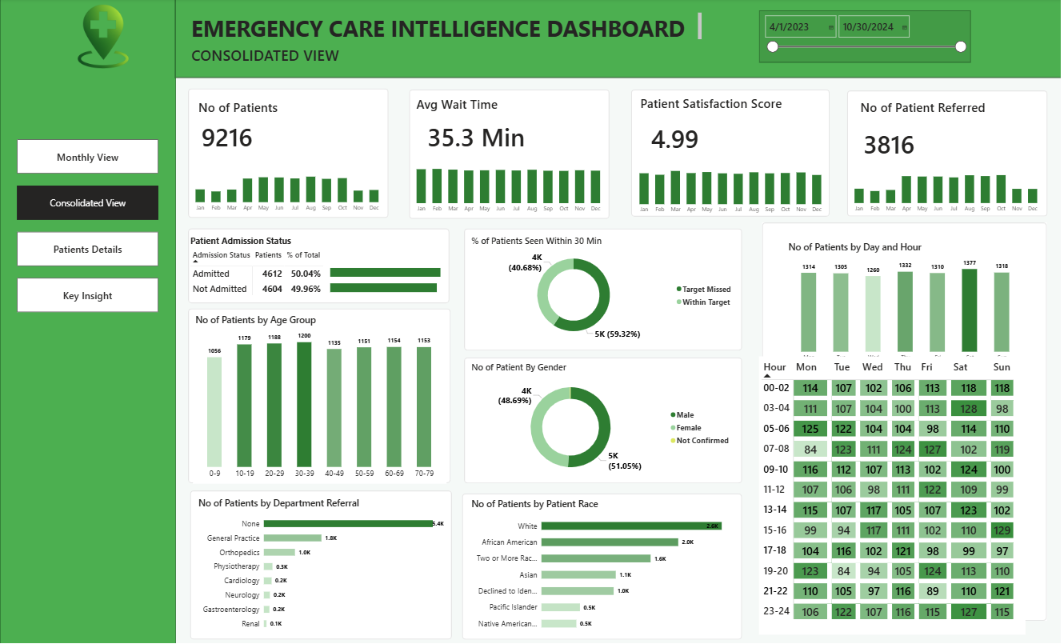

Layout of this report page (visuals, bound fields, positions):
{"tool":"powerbi","page":{"name":"Consolidated View","canvas":[2300,1400],"ordinal":1},"visuals":[{"type":"shape","box":[407.4,195.1,434.1,280.5],"z":0,"group":"g3"},{"type":"shape","box":[1650,485.4,616.7,862.5],"z":0,"group":"g10"},{"type":"shape","box":[1004.2,497.9,602.1,264.6],"z":0,"group":"g7"},{"type":"shape","box":[407.5,498.1,566,162.3],"z":0,"group":"g2"},{"type":"shape","box":[407.1,671.4,568.6,378.6],"z":0,"group":"g6"},{"type":"shape","box":[1004.2,777.1,602.1,272.9],"z":0,"group":"g8"},{"type":"group","id":"g1","title":"Group 1","box":[411.4,1065.7,567.1,322.9],"z":0},{"type":"shape","box":[411.4,1065.7,567.1,322.9],"z":0,"group":"g1"},{"type":"shape","box":[1000,1070.8,606.2,316.7],"z":0,"group":"g9"},{"type":"group","id":"g2","title":"Group 1","box":[407.5,498.1,566,162.3],"z":1000},{"type":"columnChart","title":"No of Patients by Day and Hour","fields":{"Category":["Date Table.Day Name"],"Y":["Hospital ER_Data.No of Patients"]},"box":[1701.2,524.2,518.5,271.1],"z":1500,"group":"g10"},{"type":"shape","box":[1834.1,200,434.1,273.2],"z":2000},{"type":"shape","box":[885.4,197.6,434.1,280.5],"z":3000},{"type":"shape","box":[0,0,380.5,1400],"z":4000},{"type":"shape","box":[379.3,0,1920.6,171.8],"z":5000},{"type":"textbox","box":[408.3,25,1114.6,70.8],"z":6000},{"type":"card","fields":{"Values":["Hospital ER_Data.No of Patients"]},"box":[424.4,268.3,134.1,58.5],"z":6000,"group":"g3"},{"type":"textbox","box":[408.3,95.8,335.4,66.7],"z":7000},{"type":"slicer","fields":{"Values":["Date Table.Date"]},"box":[1643.8,25,458.3,112.5],"z":8000},{"type":"textbox","box":[424.4,212.2,200,61],"z":8000,"group":"g3"},{"type":"shape","box":[1366.7,197.9,430.3,275.7],"z":9000,"group":"g4"},{"type":"card","fields":{"Values":["Hospital ER_Data.Avg Wait Time"]},"box":[902.4,268.3,256.1,58.5],"z":9000},{"type":"columnChart","fields":{"Y":["Hospital ER_Data.No of Patients"],"Category":["Date Table.Month Name"]},"box":[405.7,347.1,434.1,125],"z":9000,"group":"g3"},{"type":"group","id":"g3","title":"Group 1","box":[405.7,195.1,435.8,280.5],"z":10000},{"type":"card","fields":{"Values":["Hospital ER_Data.Satisfaction Score"]},"box":[1382.9,274.6,159.6,57.5],"z":10000,"group":"g4"},{"type":"textbox","box":[1382.9,205.1,449.7,59.9],"z":11000,"group":"g4"},{"type":"card","fields":{"Values":["Hospital ER_Data.No of Patient Referred"]},"box":[1856.1,282.9,134.1,58.5],"z":11000},{"type":"columnChart","fields":{"Category":["Date Table.Month Name"],"Y":["Avg(Hospital ER_Data.Patient Waittime)"]},"box":[883.3,347.9,435.4,125],"z":12000},{"type":"columnChart","fields":{"Y":["Hospital ER_Data.Satisfaction Score"],"Category":["Date Table.Month Name"]},"box":[1367.4,352.2,431.2,125],"z":12000,"group":"g4"},{"type":"group","id":"g4","title":"Group 3","box":[1366.7,197.9,465.9,279.3],"z":12001,"group":"g5"},{"type":"group","id":"g5","title":"Group 2","box":[1366.7,197.9,465.9,279.3],"z":13000},{"type":"columnChart","fields":{"Y":["Hospital ER_Data.No of Patient Referred"],"Category":["Date Table.Month Name"]},"box":[1831.2,341.7,433.3,131.2],"z":14000},{"type":"textbox","box":[895.1,204.9,209.8,78],"z":15000},{"type":"textbox","box":[1856.1,212.2,297.6,53.7],"z":16000},{"type":"pivotTable","title":"Patient Admission Status","fields":{"Rows":["Hospital ER_Data.Admission Status"],"Values":["Hospital ER_Data.No of Patients1","Hospital ER_Data.No of Patients"]},"box":[407.5,511.3,318.9,149.1],"z":17000},{"type":"barChart","fields":{"Category":["Hospital ER_Data.Admission Status"],"Y":["Hospital ER_Data.No of Patient Referred"]},"box":[710,554,256,106],"z":18000},{"type":"group","id":"g6","title":"Group 1","box":[407.1,671.4,568.6,378.6],"z":19000},{"type":"clusteredColumnChart","fields":{"Category":["Hospital ER_Data.Age Group"],"Y":["Hospital ER_Data.No of Patients"]},"box":[417.1,681.4,548.6,368.6],"z":20000},{"type":"clusteredBarChart","fields":{"Category":["Hospital ER_Data.Department Referral"],"Y":["Hospital ER_Data.No of Patients"]},"box":[424.3,1077.1,541.4,301.4],"z":21000},{"type":"group","id":"g7","title":"Group 1","box":[1004.2,497.9,602.1,264.6],"z":22000},{"type":"donutChart","title":"% of Patients Seen Within 30 Min","fields":{"Category":["Hospital ER_Data.Waittime Status"],"Y":["Hospital ER_Data.No of Patients"]},"box":[1014.6,510.4,581.2,237.5],"z":23000},{"type":"group","id":"g8","title":"Group 1","box":[1004.2,777.1,602.1,272.9],"z":24000},{"type":"donutChart","title":"No of Patient By Gender","fields":{"Category":["Hospital ER_Data.Patient Gender"],"Y":["Hospital ER_Data.No of Patients"]},"box":[1014.6,785.4,577.1,260.4],"z":25000},{"type":"group","id":"g9","title":"Group 1","box":[1000,1070.8,606.2,316.7],"z":26000},{"type":"clusteredBarChart","fields":{"Category":["Hospital ER_Data.Patient Race"],"Y":["Hospital ER_Data.No of Patients"]},"box":[1014.6,1079.2,577.1,302.1],"z":27000},{"type":"group","id":"g10","title":"Group 1","box":[1650,485.4,616.7,862.5],"z":28000},{"type":"pivotTable","fields":{"Rows":["Hospital ER_Data.Waittime Interval"],"Columns":["Date Table.Day Name"],"Values":["Hospital ER_Data.No of Patients"]},"box":[1643.8,775,577.1,602.1],"z":29000},{"type":"image","box":[66.7,0,312.5,170.8],"z":30000},{"type":"pageNavigator","box":[37.5,304.2,306.2,377.1],"z":31000}]}

Visuals, with their boxes in screenshot pixels (x1, y1, x2, y2), scaled from the page's 2300x1400 canvas onto the 1061x644 screenshot:
shape: x1=188, y1=90, x2=388, y2=219
shape: x1=761, y1=223, x2=1046, y2=620
shape: x1=463, y1=229, x2=741, y2=351
shape: x1=188, y1=229, x2=449, y2=304
shape: x1=188, y1=309, x2=450, y2=483
shape: x1=463, y1=357, x2=741, y2=483
"Group 1" group: x1=190, y1=490, x2=451, y2=639
shape: x1=190, y1=490, x2=451, y2=639
shape: x1=461, y1=493, x2=741, y2=638
"Group 1" group: x1=188, y1=229, x2=449, y2=304
"No of Patients by Day and Hour" columnChart: x1=785, y1=241, x2=1024, y2=366
shape: x1=846, y1=92, x2=1046, y2=218
shape: x1=408, y1=91, x2=609, y2=220
shape: x1=0, y1=0, x2=176, y2=643
shape: x1=175, y1=0, x2=1060, y2=79
textbox: x1=188, y1=12, x2=703, y2=44
card - Hospital ER_Data.No of Patients: x1=196, y1=123, x2=258, y2=150
textbox: x1=188, y1=44, x2=343, y2=75
slicer - Date Table.Date: x1=758, y1=12, x2=970, y2=63
textbox: x1=196, y1=98, x2=288, y2=126
shape: x1=630, y1=91, x2=829, y2=218
card - Hospital ER_Data.Avg Wait Time: x1=416, y1=123, x2=534, y2=150
columnChart - Hospital ER_Data.No of Patients x Date Table.Month Name: x1=187, y1=160, x2=387, y2=217
"Group 1" group: x1=187, y1=90, x2=388, y2=219
card - Hospital ER_Data.Satisfaction Score: x1=638, y1=126, x2=712, y2=153
textbox: x1=638, y1=94, x2=845, y2=122
card - Hospital ER_Data.No of Patient Referred: x1=856, y1=130, x2=918, y2=157
columnChart - Date Table.Month Name x Avg(Hospital ER_Data.Patient Waittime): x1=407, y1=160, x2=608, y2=218
columnChart - Hospital ER_Data.Satisfaction Score x Date Table.Month Name: x1=631, y1=162, x2=830, y2=220
"Group 3" group: x1=630, y1=91, x2=845, y2=220
"Group 2" group: x1=630, y1=91, x2=845, y2=220
columnChart - Hospital ER_Data.No of Patient Referred x Date Table.Month Name: x1=845, y1=157, x2=1045, y2=218
textbox: x1=413, y1=94, x2=510, y2=130
textbox: x1=856, y1=98, x2=994, y2=122
"Patient Admission Status" pivotTable: x1=188, y1=235, x2=335, y2=304
barChart - Hospital ER_Data.Admission Status x Hospital ER_Data.No of Patient Referred: x1=328, y1=255, x2=446, y2=304
"Group 1" group: x1=188, y1=309, x2=450, y2=483
clusteredColumnChart - Hospital ER_Data.Age Group x Hospital ER_Data.No of Patients: x1=192, y1=313, x2=445, y2=483
clusteredBarChart - Hospital ER_Data.Department Referral x Hospital ER_Data.No of Patients: x1=196, y1=495, x2=445, y2=634
"Group 1" group: x1=463, y1=229, x2=741, y2=351
"% of Patients Seen Within 30 Min" donutChart: x1=468, y1=235, x2=736, y2=344
"Group 1" group: x1=463, y1=357, x2=741, y2=483
"No of Patient By Gender" donutChart: x1=468, y1=361, x2=734, y2=481
"Group 1" group: x1=461, y1=493, x2=741, y2=638
clusteredBarChart - Hospital ER_Data.Patient Race x Hospital ER_Data.No of Patients: x1=468, y1=496, x2=734, y2=635
"Group 1" group: x1=761, y1=223, x2=1046, y2=620
pivotTable - Hospital ER_Data.Waittime Interval x Date Table.Day Name: x1=758, y1=356, x2=1025, y2=633
image: x1=31, y1=0, x2=175, y2=79
pageNavigator: x1=17, y1=140, x2=159, y2=313
